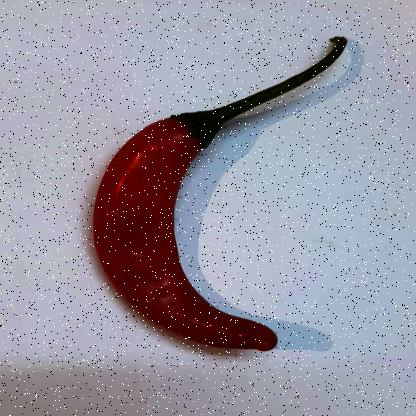chili: (82, 38, 345, 352)
